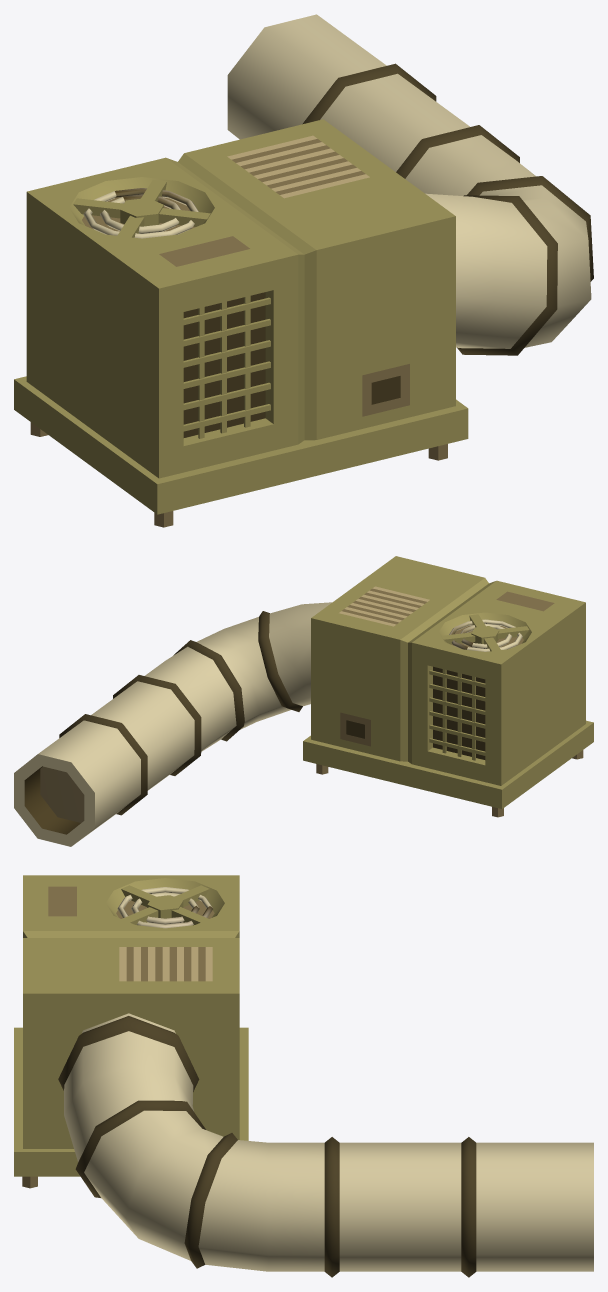
File: conditioner.fbx
The picture shows the model from 3 angles, top to bottom: view 1: azimuth 30°, elevation 25°; view 2: azimuth 150°, elevation 25°; view 3: azimuth 270°, elevation 25°; orthographic projection. The views are drawn at different scales.
Visible parts, largest first — view 1: conditioner_001; view 2: conditioner_001; view 3: conditioner_001.
Part boxes in pixels (x1,y1,x2,y2): conditioner_001: [14, 14, 593, 527]; conditioner_001: [14, 556, 593, 846]; conditioner_001: [14, 875, 593, 1277].
Size of the model in its own units: 230 by 96.91 by 253.
